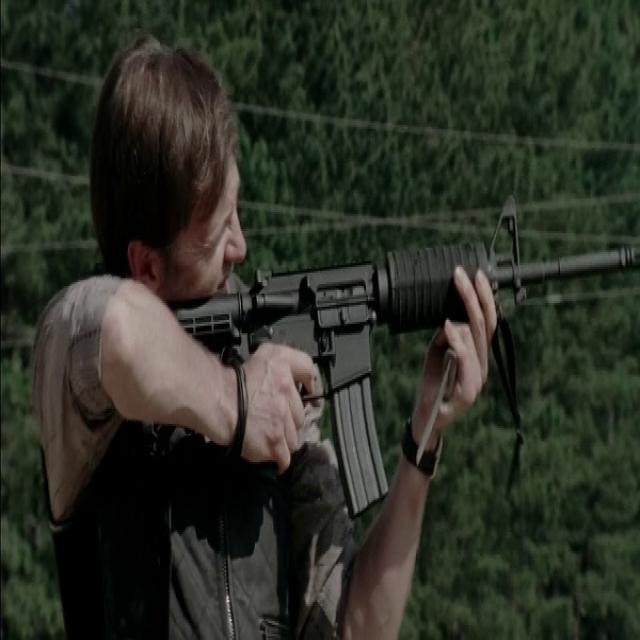rifle: (164, 200, 640, 523)
